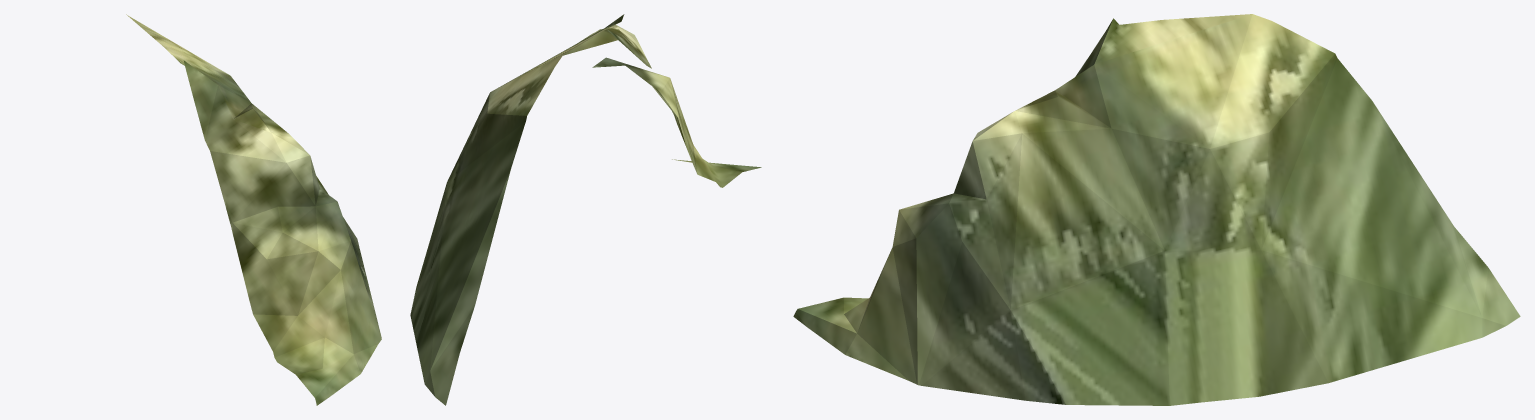
3 views of the same model, side by side, from view 1: azimuth 30°, elevation 25°; view 2: azimuth 150°, elevation 25°; view 3: azimuth 270°, elevation 25° (orthographic). The views are drawn at different scales.
Bounding box in the file's own units: 0.6122 × 0.9663 × 2.11.
1 material, 1 textured.
